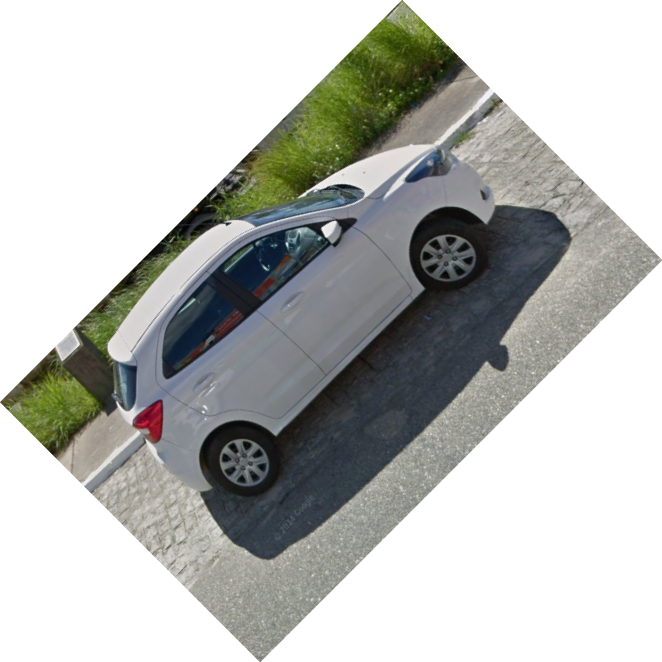car: (103, 137, 499, 499)
